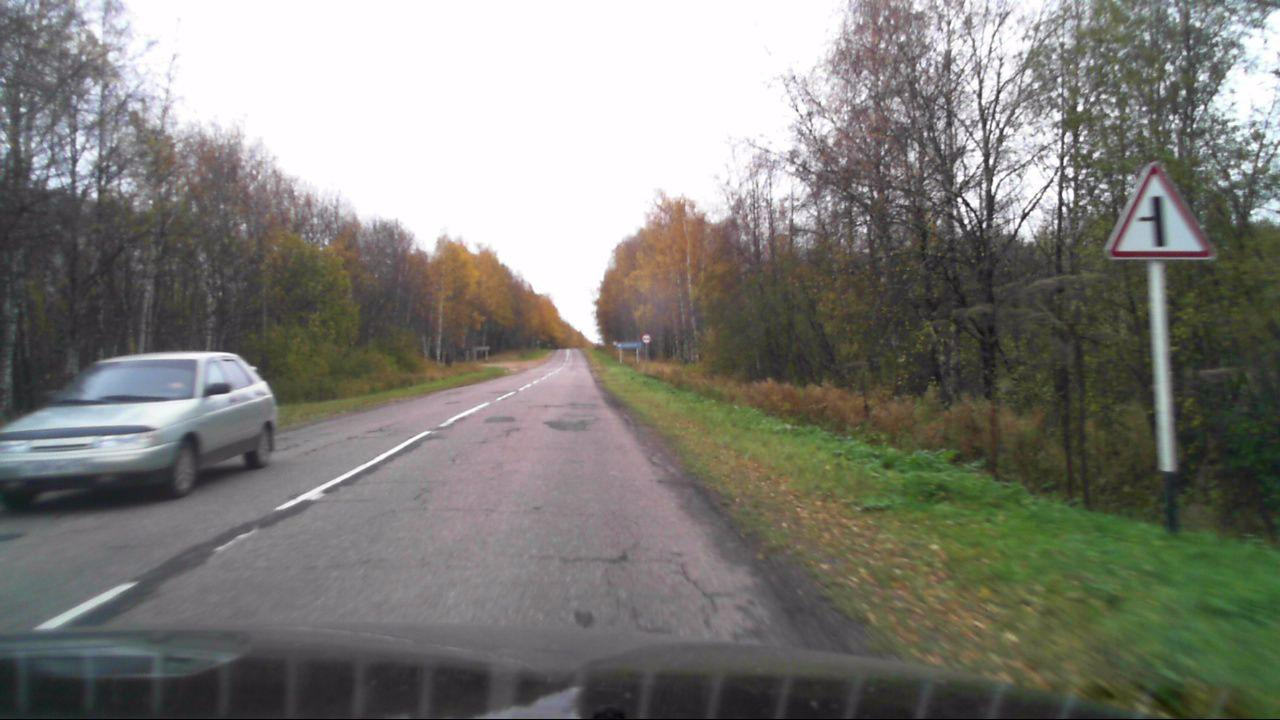2_3_3: (1102, 161, 1218, 265)
